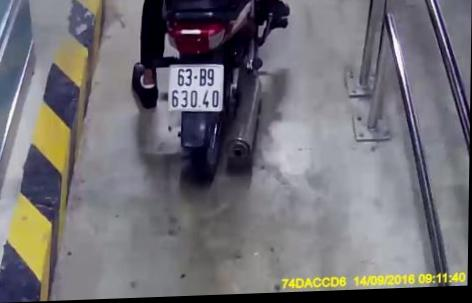License_Plate: (162, 59, 227, 124)
